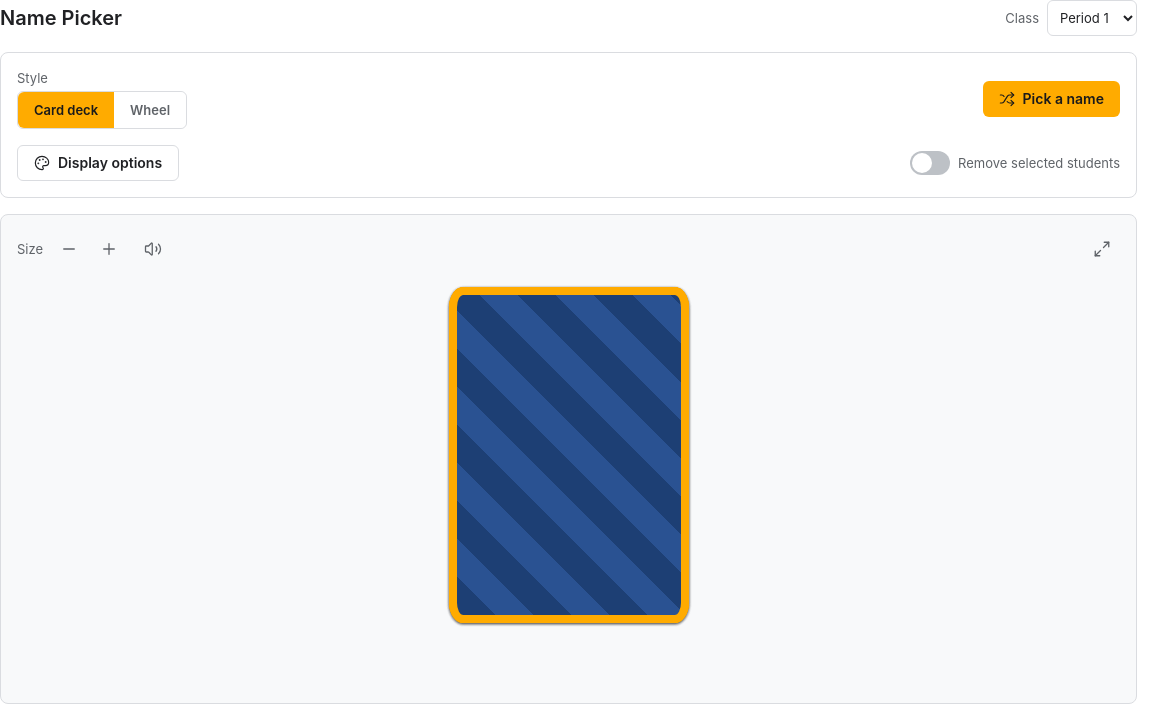
NamePickerPage › opens Display options with font plus mode-specific colour choices
Click the button "Display options" at (98, 163), box [17,145,179,181]
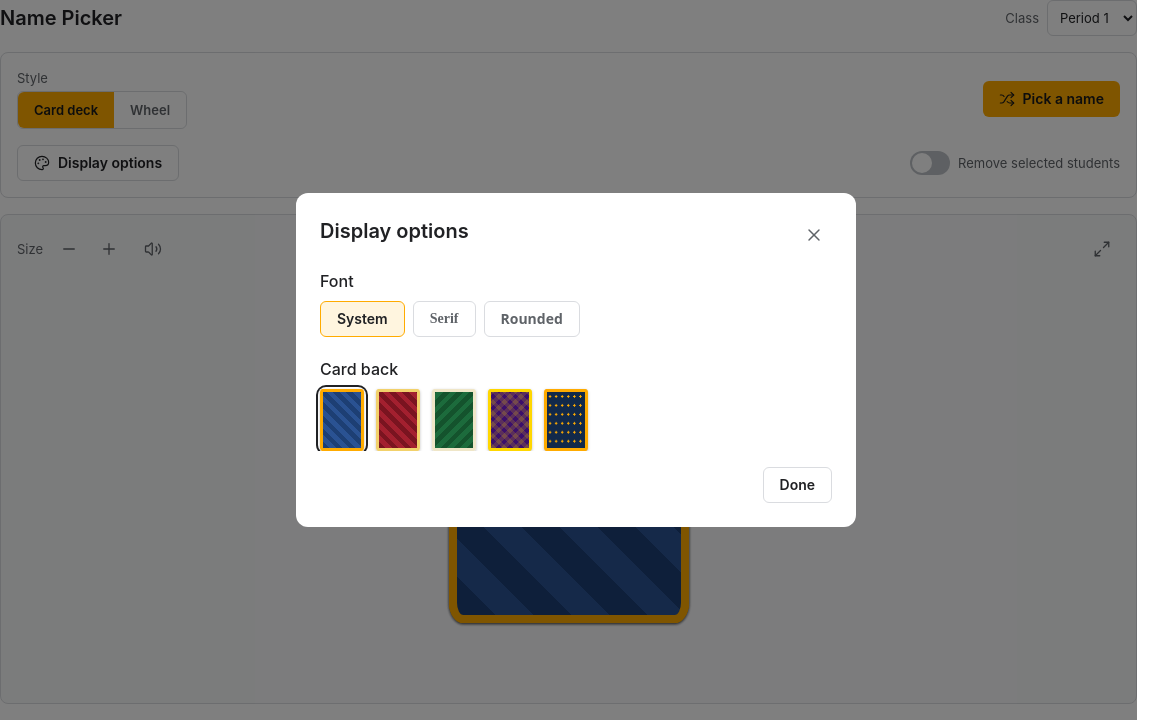
Expected: the element "Wheel colours" is not shown
Now the element named "Font" is shown, box [320,301,580,337]
Now the element named "Card back" is shown, box [320,389,588,451]
Click the button "Done" at (797, 485), box [762,467,832,503]
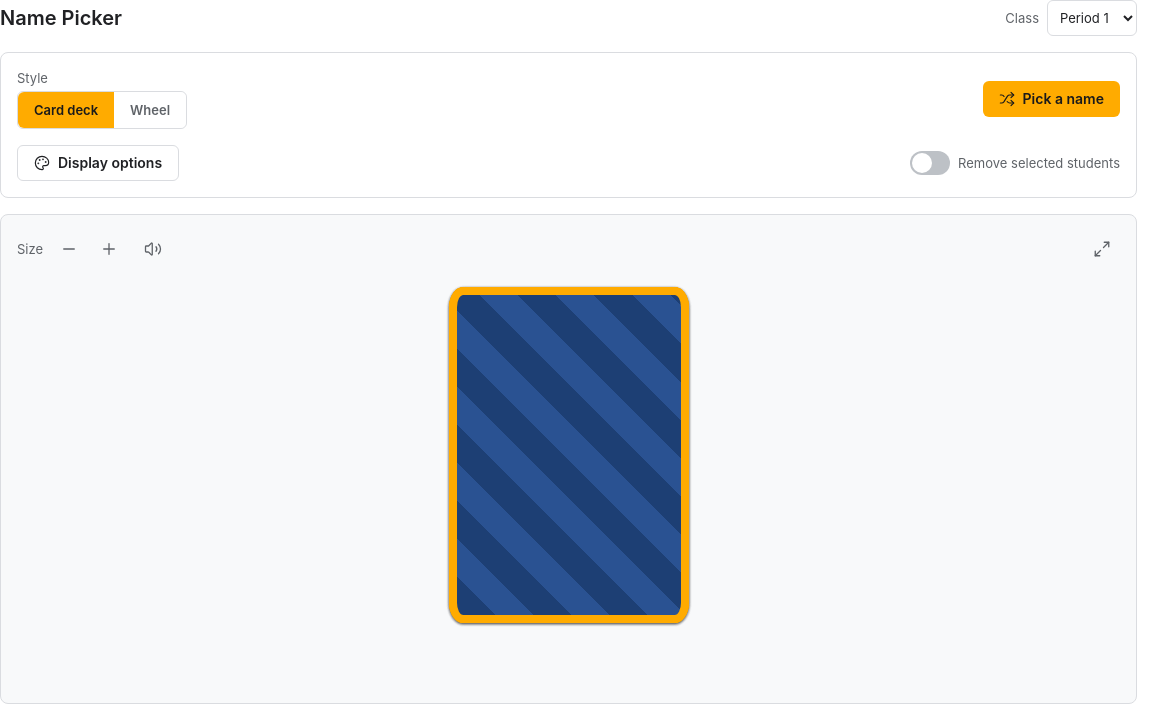
Note: Switch to the wheel and reopen: now the wheel colour choices show.
Click the button "Wheel" at (150, 110), box [114,92,186,128]
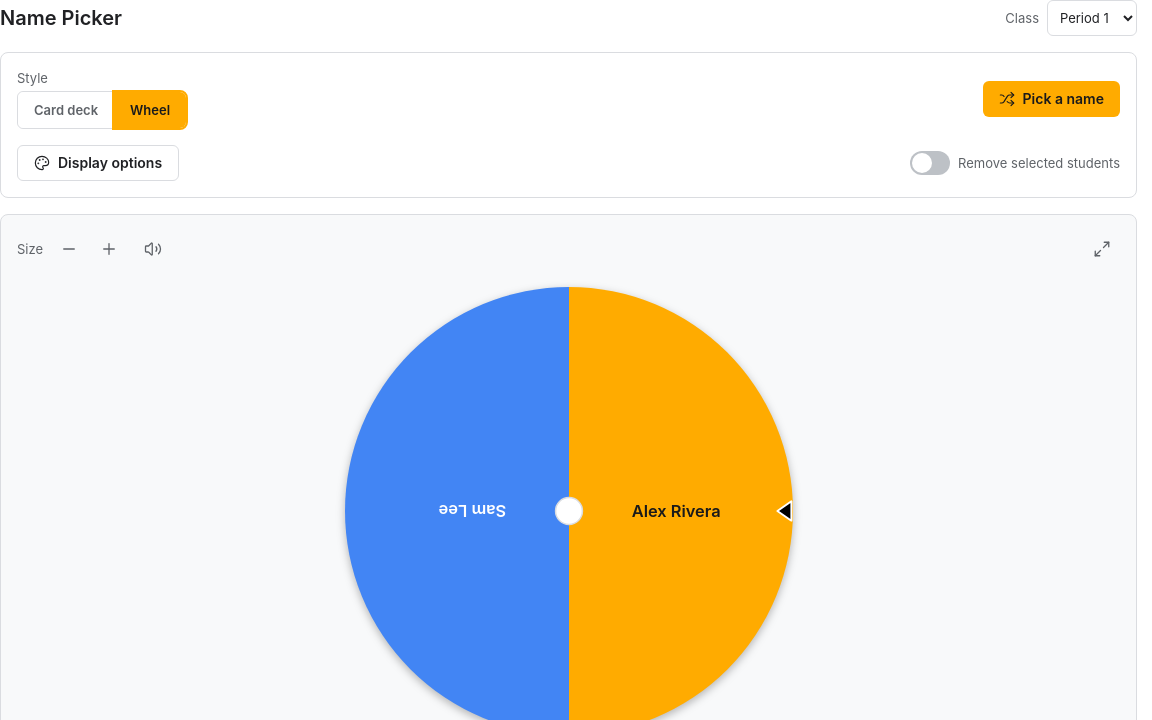
Click the button "Display options" at (98, 163), box [17,145,179,181]
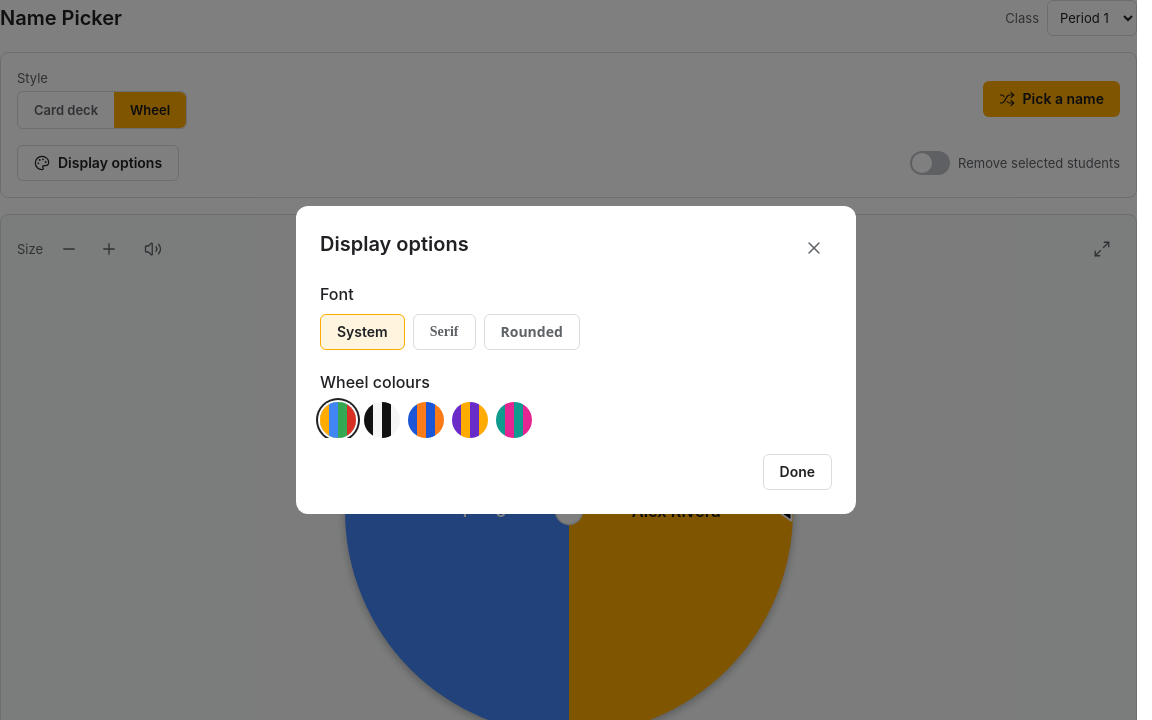
Now the element named "Wheel colours" is shown, box [320,402,532,438]
Now the button named "Rainbow" is shown, box [320,402,356,438]
